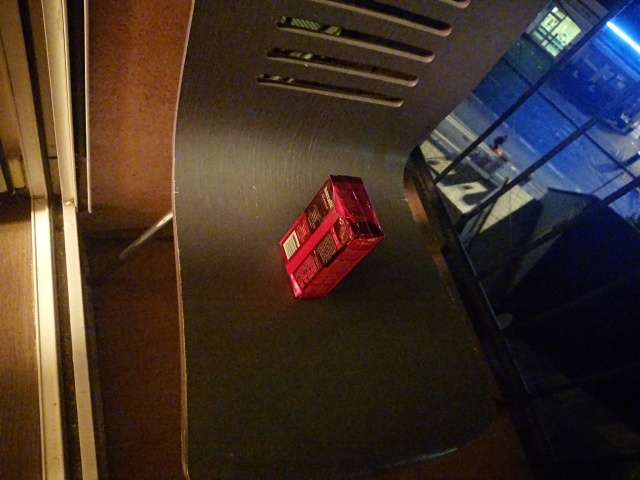Barcaffe Classic Original 225g: (278, 173, 387, 310)
